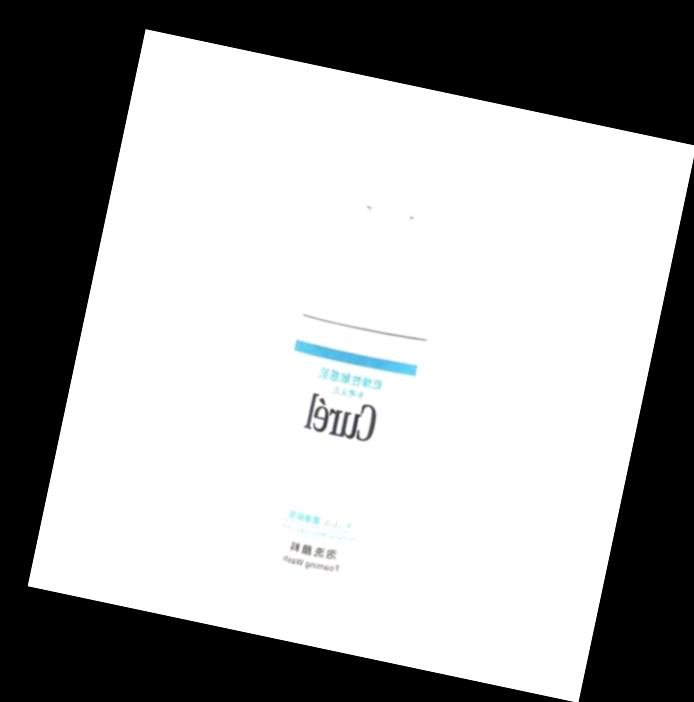cosmetic: (209, 105, 506, 638)
